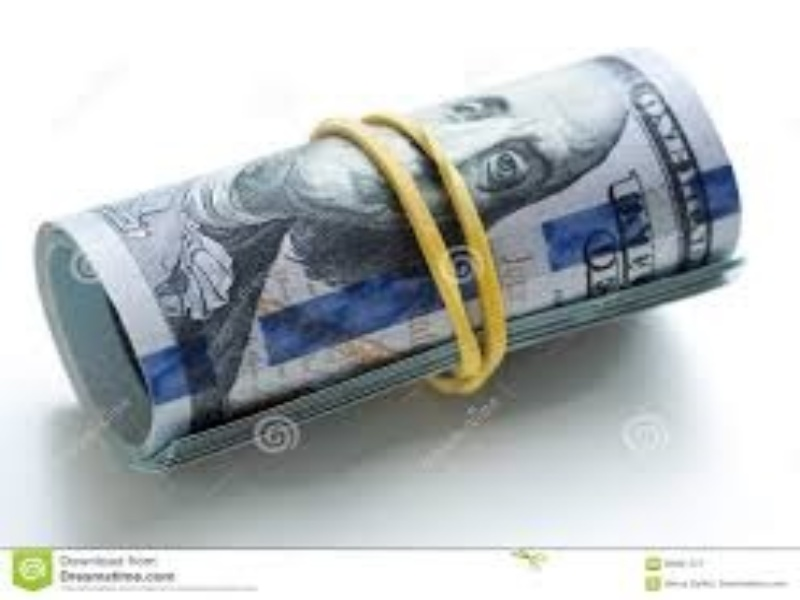cash: (34, 46, 745, 473)
